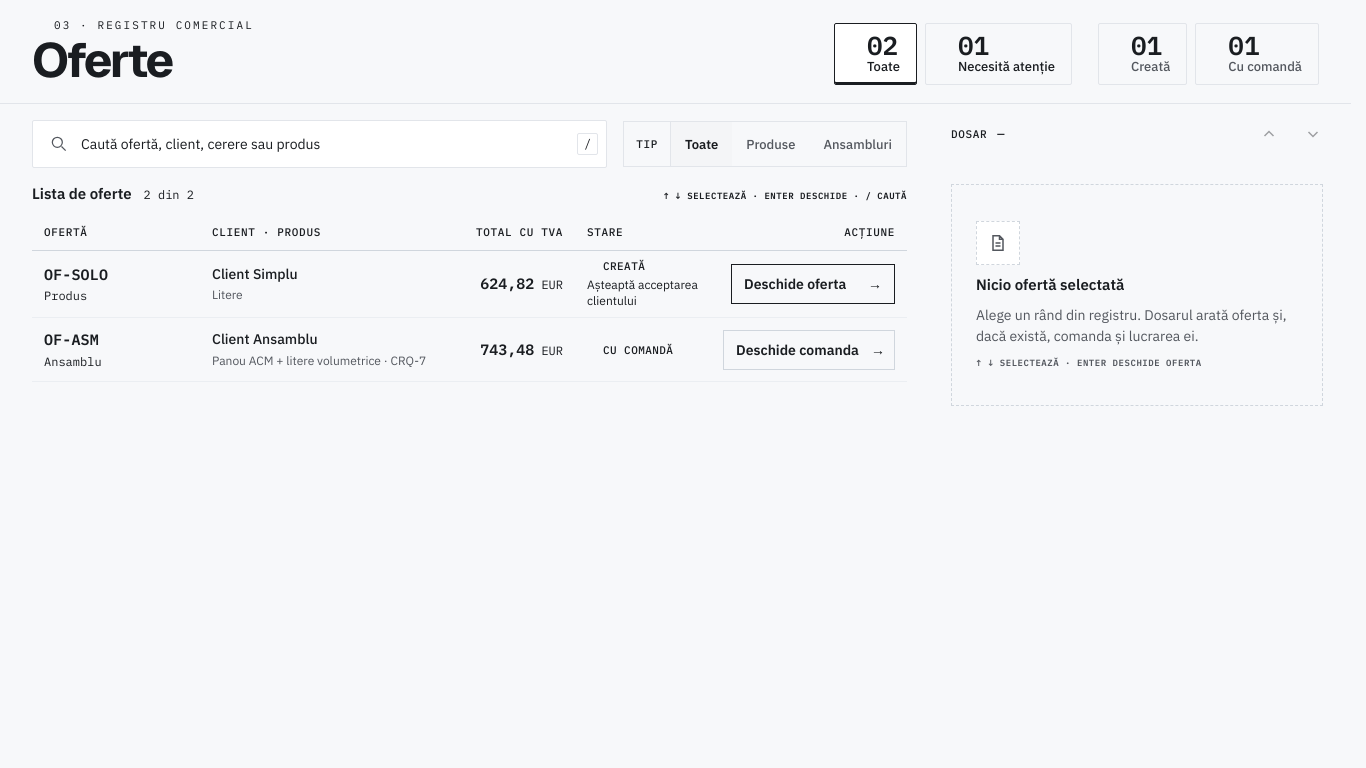
QuotesPage › never shows a late detail answer for an offer that is no longer selected
Expected: the link "OF-ASM" is shown, x1=44 y1=330 x2=99 y2=350
Step 1. Click the row named "Previzualizează oferta OF-ASM" → [470, 350], box x1=32 y1=318 x2=907 y2=382
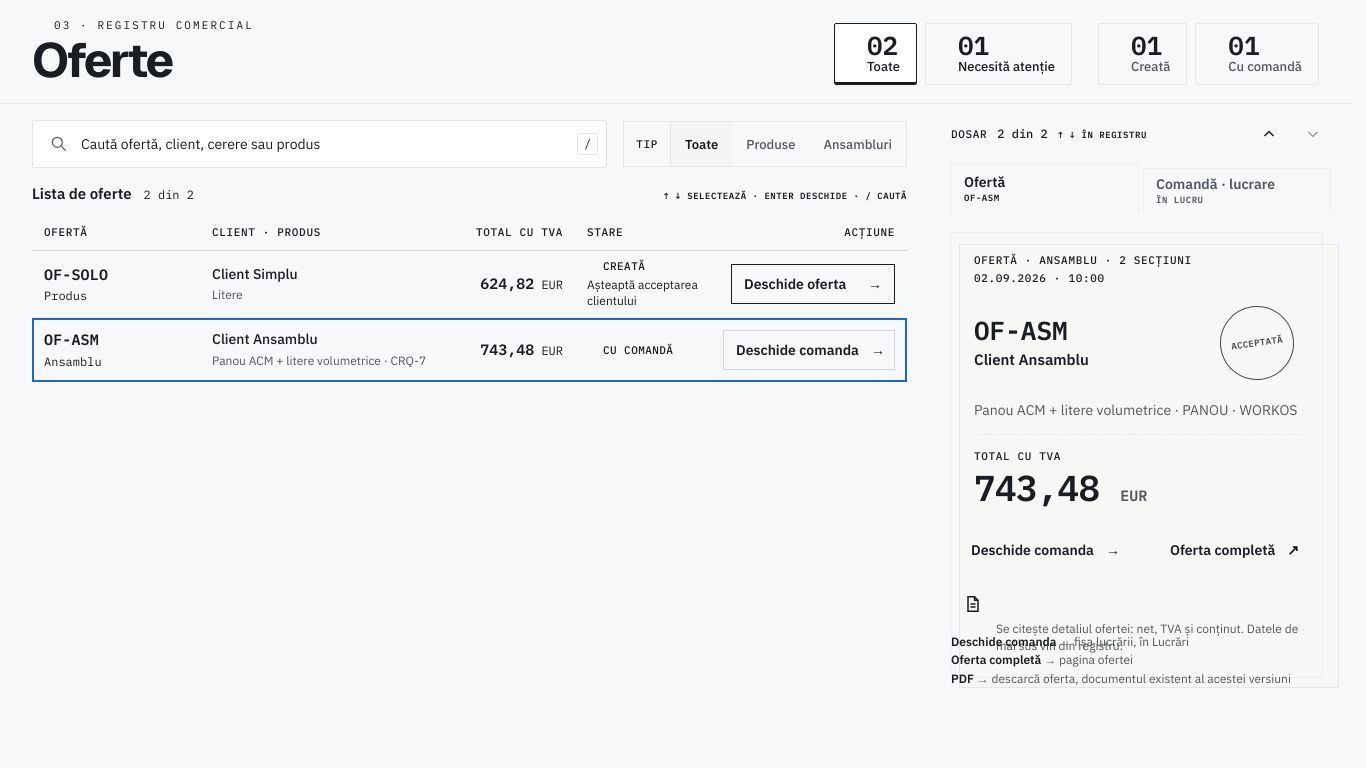
Step 2. Click the row named "Previzualizează oferta OF-SOLO" → [470, 284], box x1=32 y1=251 x2=907 y2=318
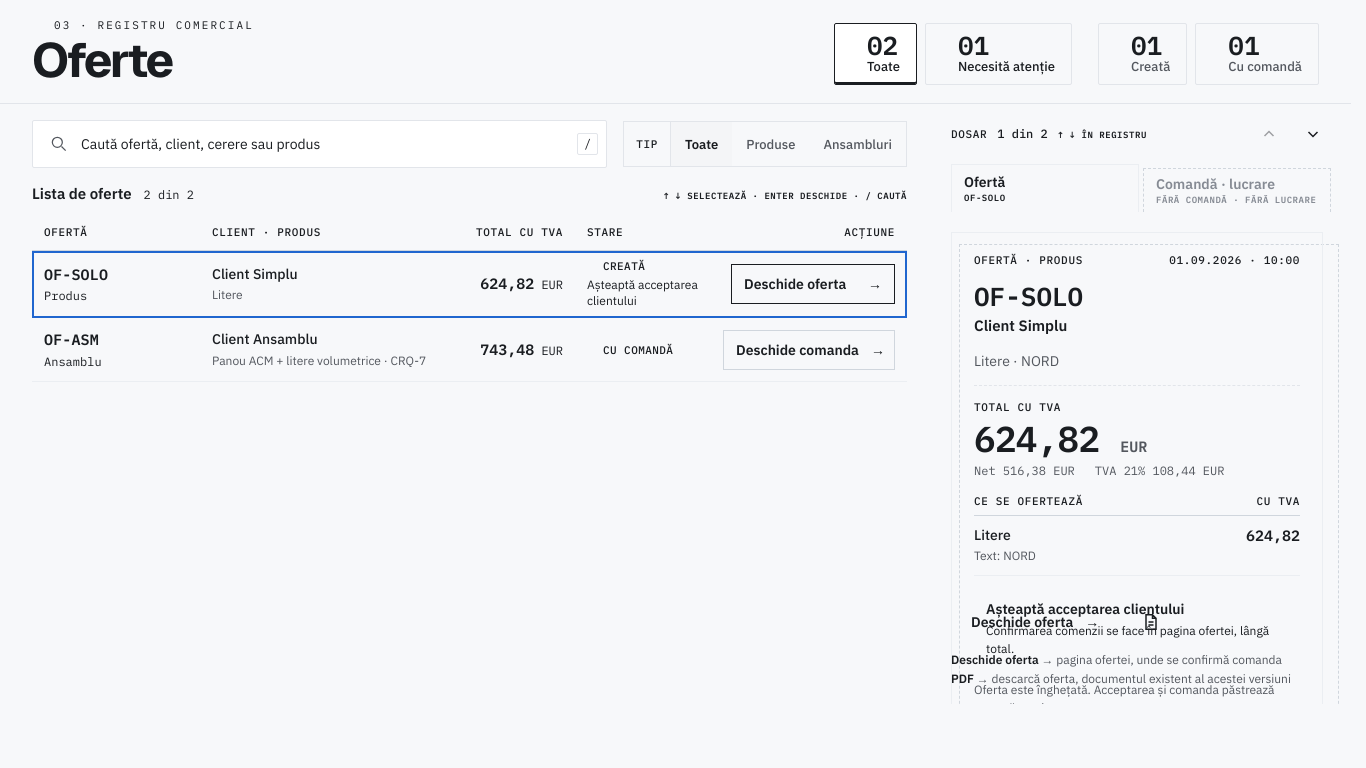
Now the text "Net 516,38 EUR" is shown, box x1=974 y1=463 x2=1075 y2=480
Now the text "OF-SOLO" below "Ofertă ·" is shown, box x1=974 y1=279 x2=1083 y2=313
